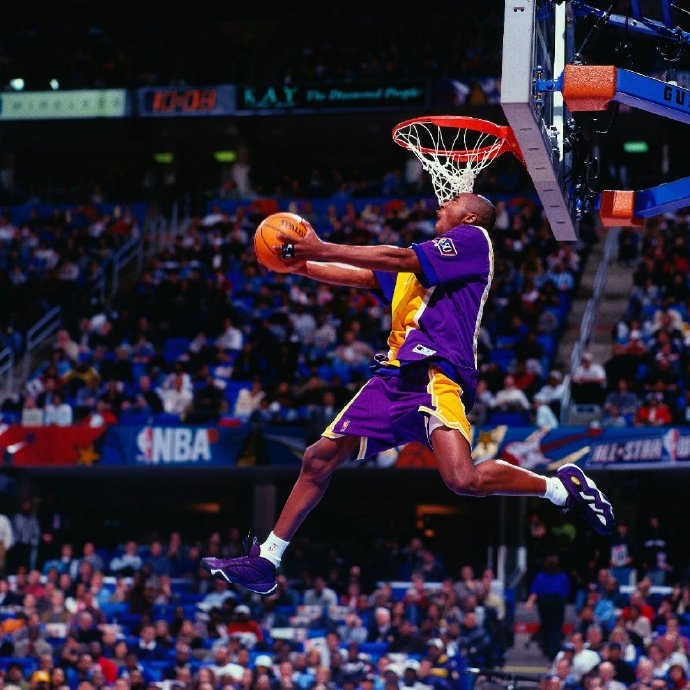ball: (252, 211, 314, 274)
